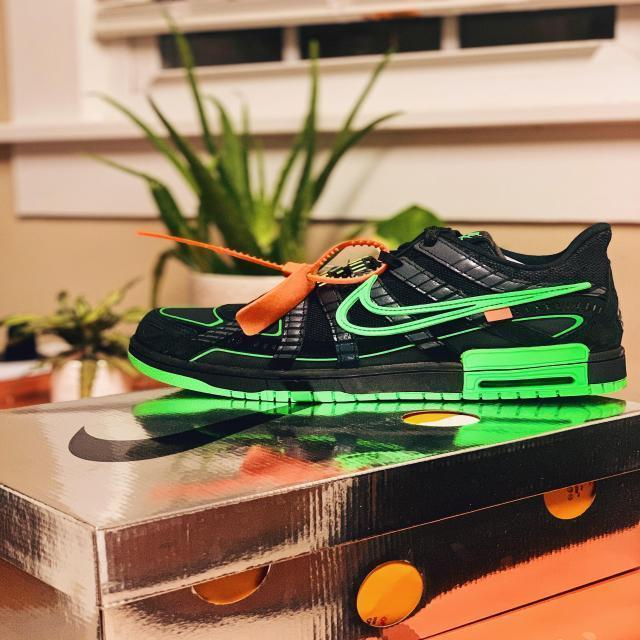shoes: (128, 228, 640, 444)
